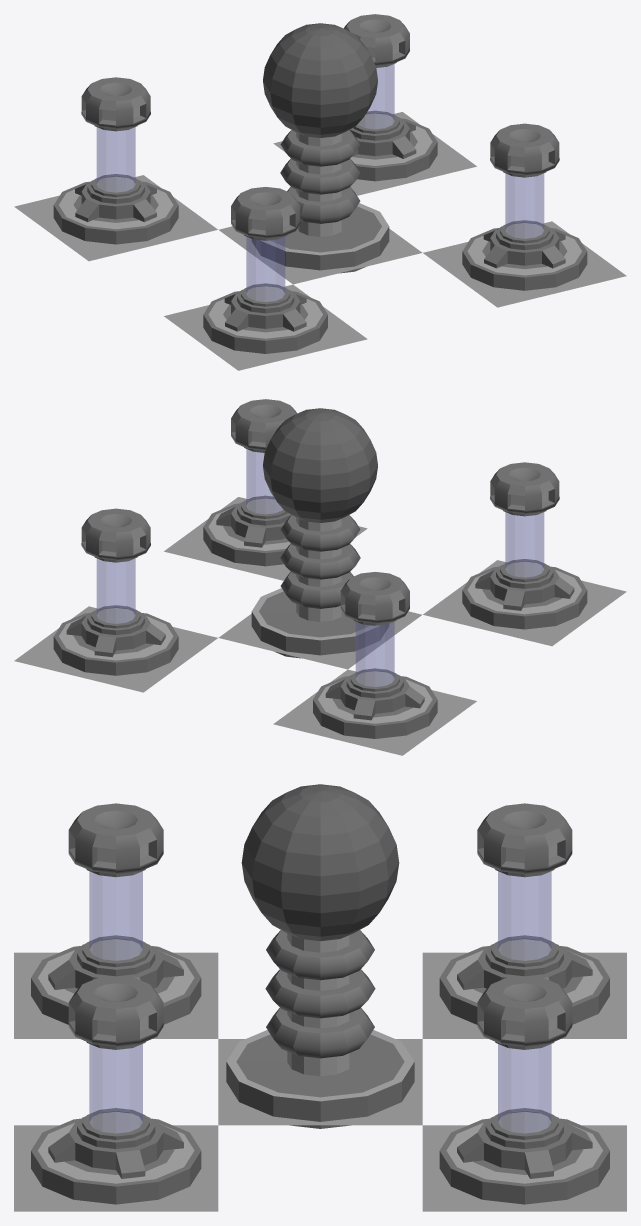
Rendered from LightningTower.fbx.
The picture shows the model from 3 angles, top to bottom: view 1: azimuth 30°, elevation 25°; view 2: azimuth 150°, elevation 25°; view 3: azimuth 270°, elevation 25°; orthographic projection. The views are drawn at different scales.
Visible parts, largest first — view 1: LightningTower, pPlane4, pPlane5, pPlane3, pPlane1, pPlane2; view 2: LightningTower, pPlane2, pPlane3, pPlane5, pPlane1, pPlane4; view 3: LightningTower, pPlane2, pPlane4, pPlane3, pPlane5, pPlane1.
Part boxes in pixels (bbox=[...]): LightningTower: bbox=[53, 14, 587, 353]; pPlane4: bbox=[423, 221, 626, 307]; pPlane5: bbox=[14, 175, 217, 261]; pPlane3: bbox=[164, 284, 367, 370]; pPlane1: bbox=[218, 226, 422, 284]; pPlane2: bbox=[273, 112, 476, 195]; LightningTower: bbox=[53, 399, 587, 738]; pPlane2: bbox=[14, 606, 217, 692]; pPlane3: bbox=[423, 560, 626, 646]; pPlane5: bbox=[273, 669, 476, 755]; pPlane1: bbox=[218, 611, 422, 669]; pPlane4: bbox=[164, 497, 367, 580]; LightningTower: bbox=[31, 784, 609, 1204]; pPlane2: bbox=[422, 1125, 626, 1211]; pPlane4: bbox=[14, 1125, 218, 1211]; pPlane3: bbox=[14, 952, 218, 1038]; pPlane5: bbox=[422, 952, 626, 1038]; pPlane1: bbox=[218, 1039, 422, 1125].
Bounding box in the file's own units: 42 × 22.52 × 42.
